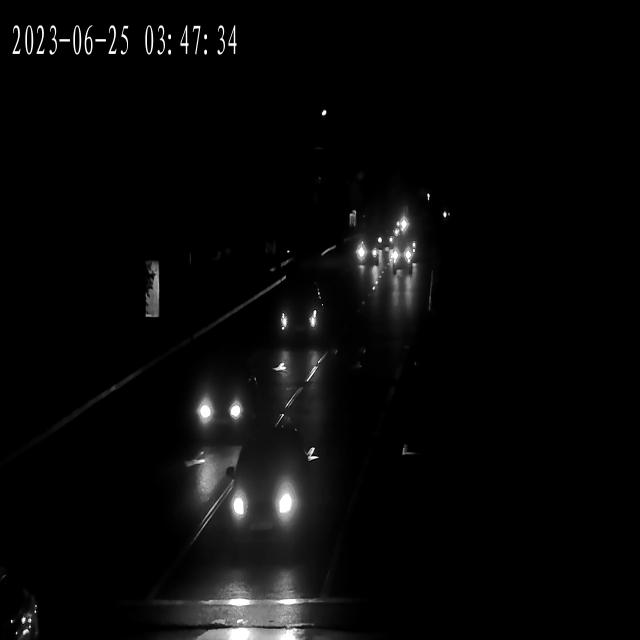Car: (221, 453, 308, 546), (190, 362, 256, 437), (270, 288, 324, 345), (353, 239, 379, 266), (389, 244, 414, 268), (392, 208, 410, 231)
